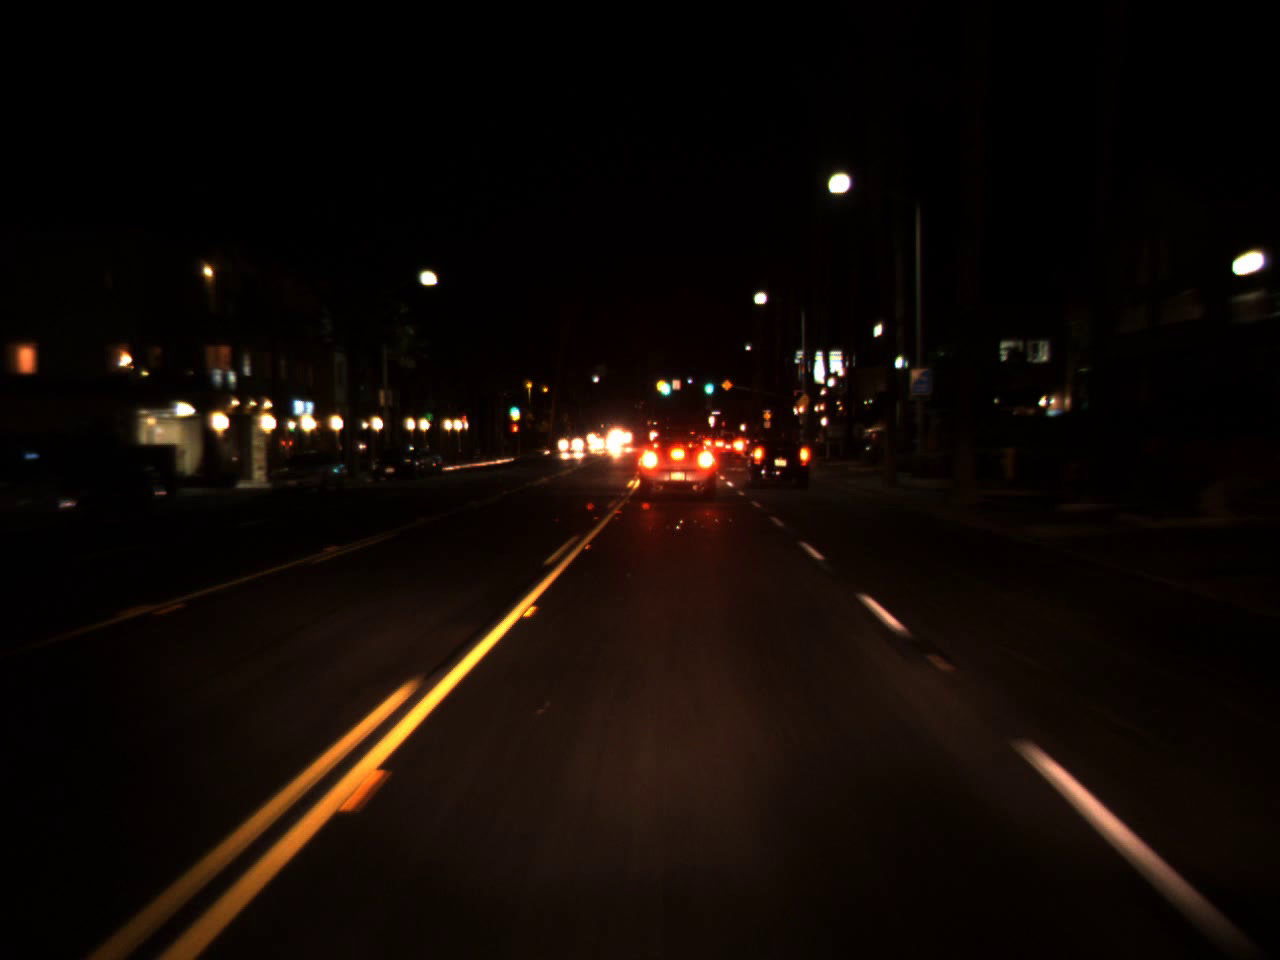go: (657, 370, 671, 400), (702, 369, 714, 399)
